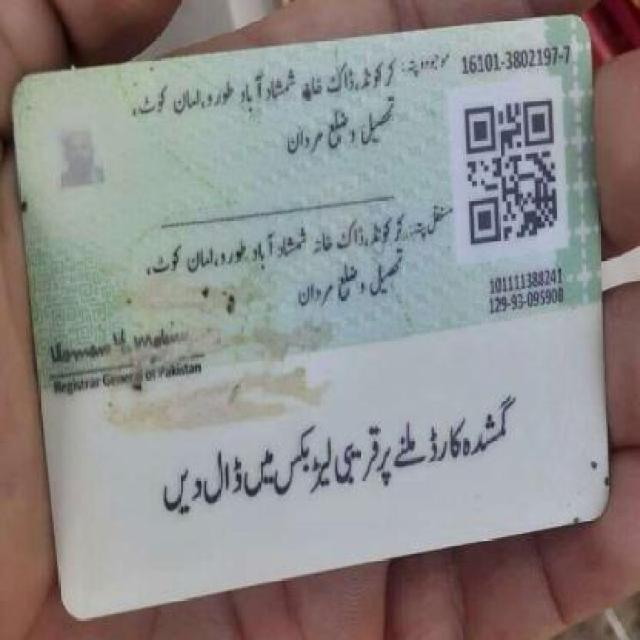Back: (19, 16, 608, 586)
